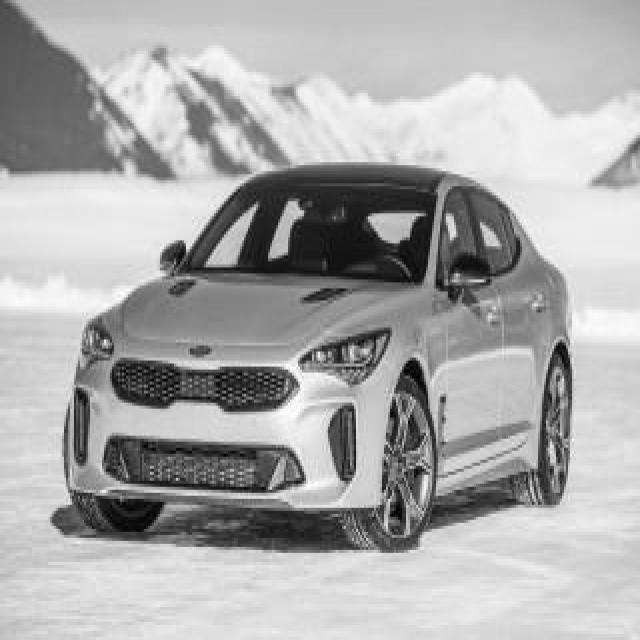Car: (64, 163, 569, 550)
